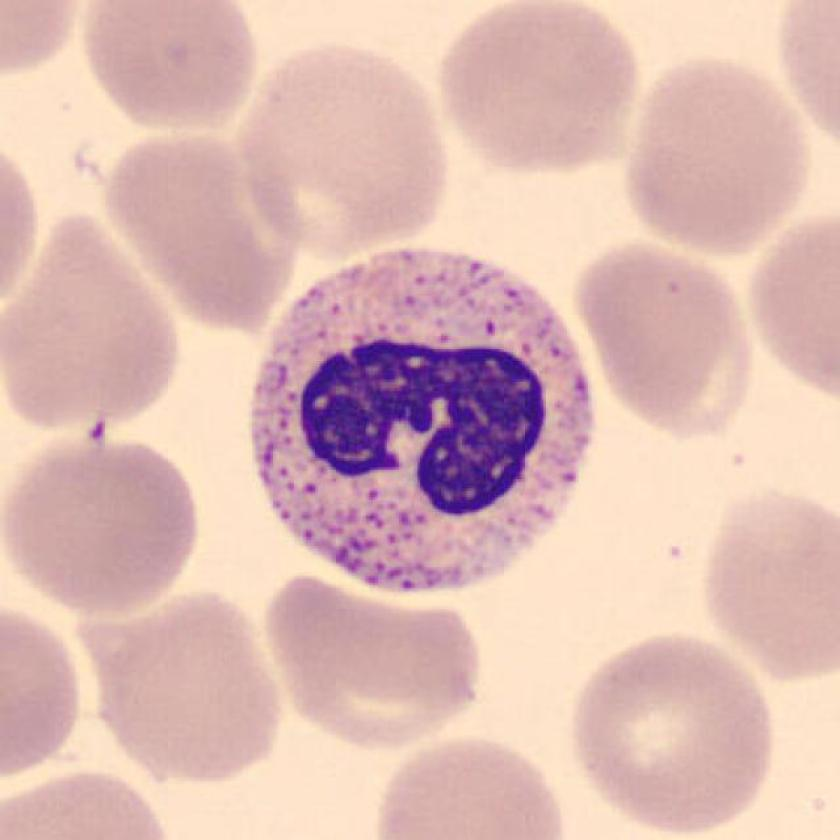neutrophil: (249, 252, 592, 593)
